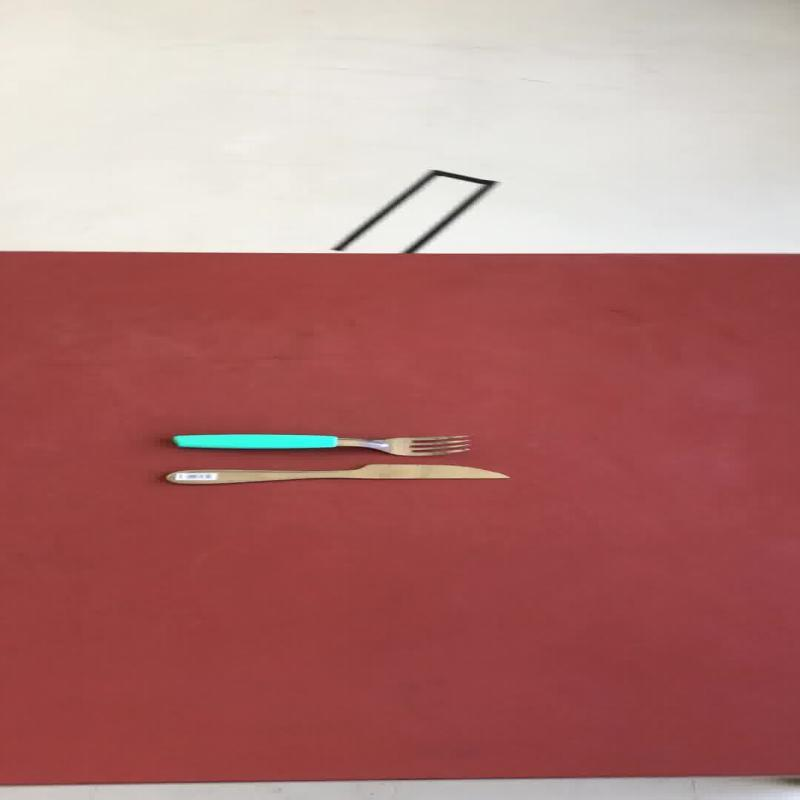fork: (169, 432, 471, 457)
knife: (164, 463, 510, 485), (170, 432, 472, 457)
